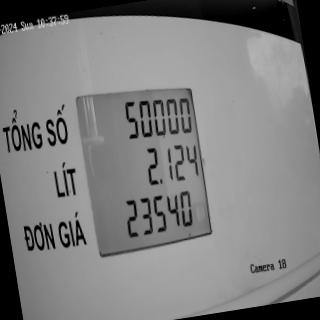screen: (70, 72, 218, 258)
